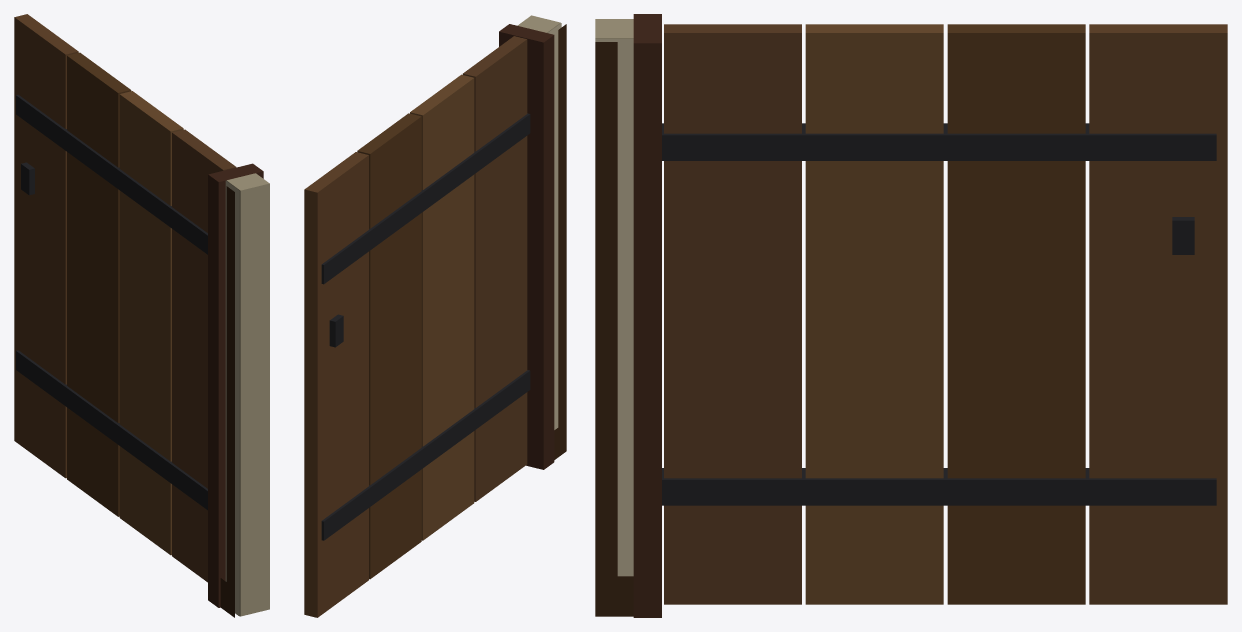
The model's file is wall-halftimber-door-shut-low-r.glb.
The picture shows the model from 3 angles, left to right: view 1: azimuth 30°, elevation 25°; view 2: azimuth 150°, elevation 25°; view 3: azimuth 270°, elevation 25°; orthographic projection. The views are drawn at different scales.
Visible parts, largest first — view 1: wall-halftimber-door-shut-low-r; view 2: wall-halftimber-door-shut-low-r; view 3: wall-halftimber-door-shut-low-r.
Part boxes in pixels (x1,y1,x2,y2): wall-halftimber-door-shut-low-r: (14, 14, 269, 617); wall-halftimber-door-shut-low-r: (304, 15, 566, 617); wall-halftimber-door-shut-low-r: (595, 14, 1227, 617).
Size of the model in its own units: 0.11 by 1 by 0.997.
